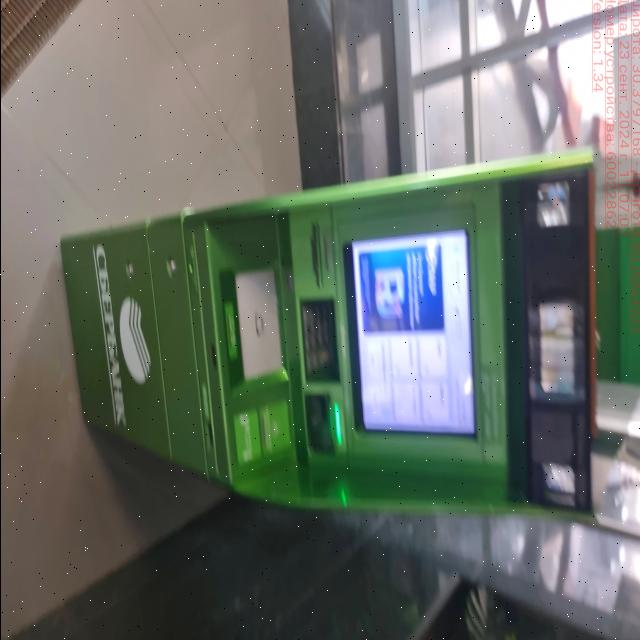bank: (59, 157, 640, 526)
